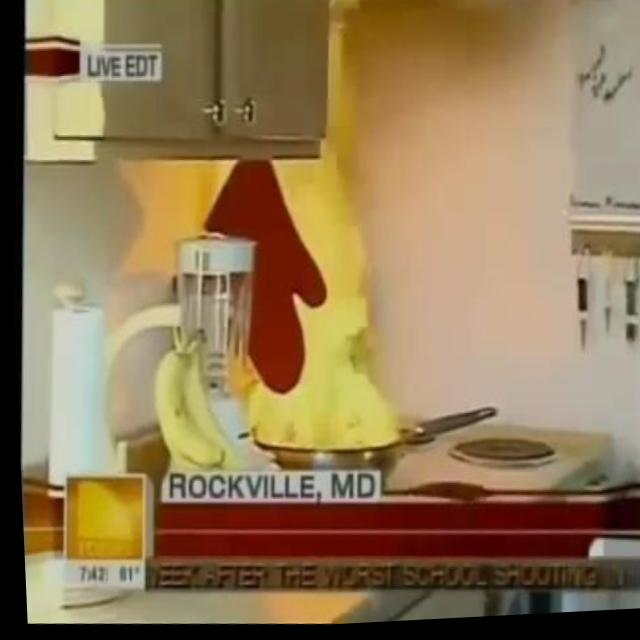fire: (196, 152, 424, 459)
